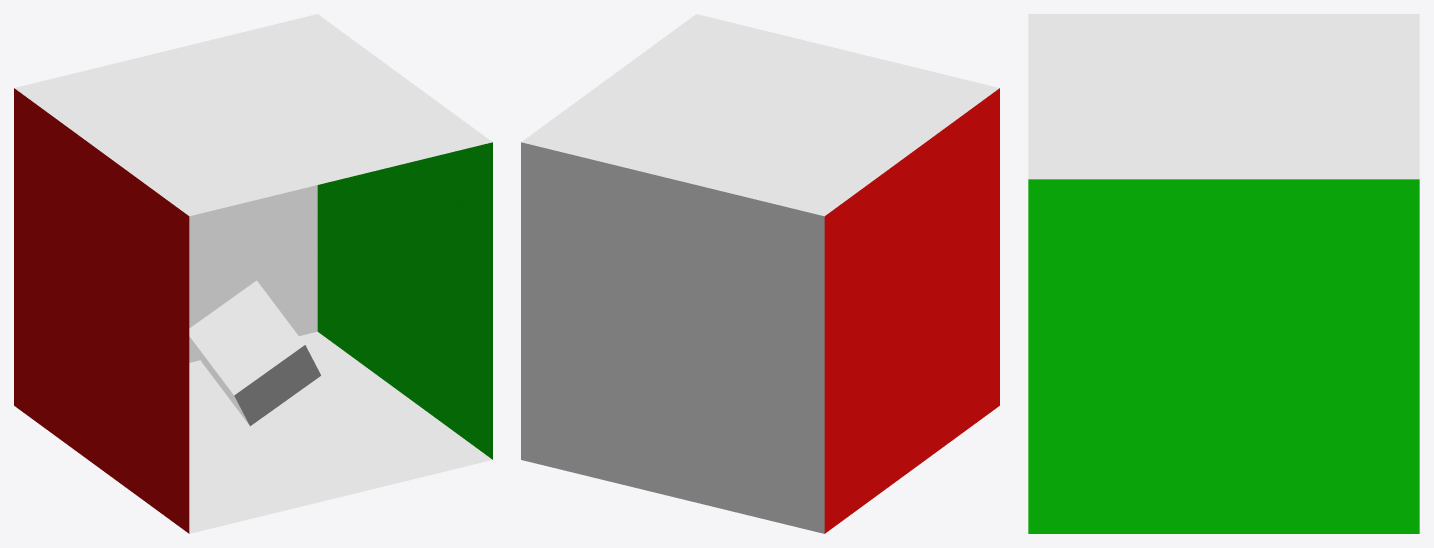
The model's file is cornellbox-box.obj.
3 renders of one model, left to right at view 1: azimuth 30°, elevation 25°; view 2: azimuth 150°, elevation 25°; view 3: azimuth 270°, elevation 25°, orthographic. The views are drawn at different scales.
Visible parts, largest first — view 1: cornellbox_cornellbox_leftWall, cornellbox_cornellbox_ceiling, cornellbox_cornellbox_rightWall, cornellbox_cornellbox_floor, cornellbox_cornellbox_frontWall, Cube_Cube.001_box; view 2: cornellbox_cornellbox_frontWall, cornellbox_cornellbox_leftWall, cornellbox_cornellbox_ceiling; view 3: cornellbox_cornellbox_rightWall, cornellbox_cornellbox_ceiling.
Boxes of the visible parts, <box> form: cornellbox_cornellbox_leftWall: <box>14,88,189,533</box>; cornellbox_cornellbox_ceiling: <box>14,14,492,216</box>; cornellbox_cornellbox_rightWall: <box>317,142,492,459</box>; cornellbox_cornellbox_floor: <box>189,331,492,533</box>; cornellbox_cornellbox_frontWall: <box>189,185,317,362</box>; Cube_Cube.001_box: <box>189,280,320,426</box>; cornellbox_cornellbox_frontWall: <box>521,142,824,533</box>; cornellbox_cornellbox_leftWall: <box>824,88,999,533</box>; cornellbox_cornellbox_ceiling: <box>521,14,999,216</box>; cornellbox_cornellbox_rightWall: <box>1028,179,1419,533</box>; cornellbox_cornellbox_ceiling: <box>1028,14,1419,179</box>.
Bounding box in the file's own units: 2 × 2 × 2.
